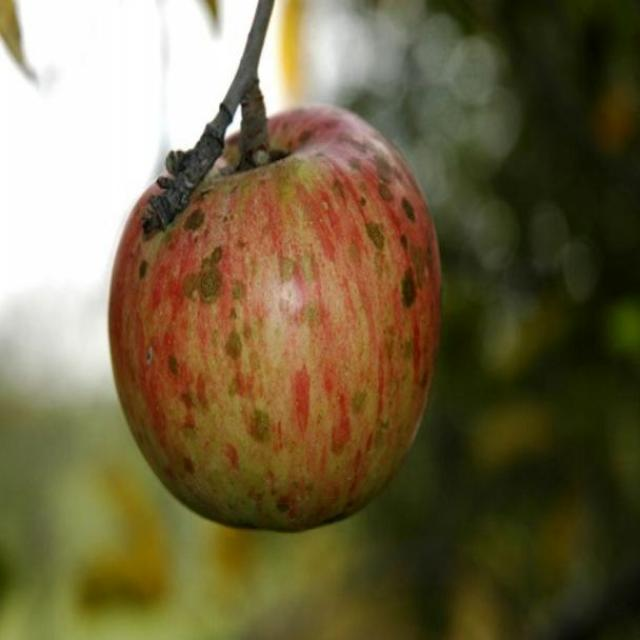BLOTCH: (99, 84, 467, 555)
